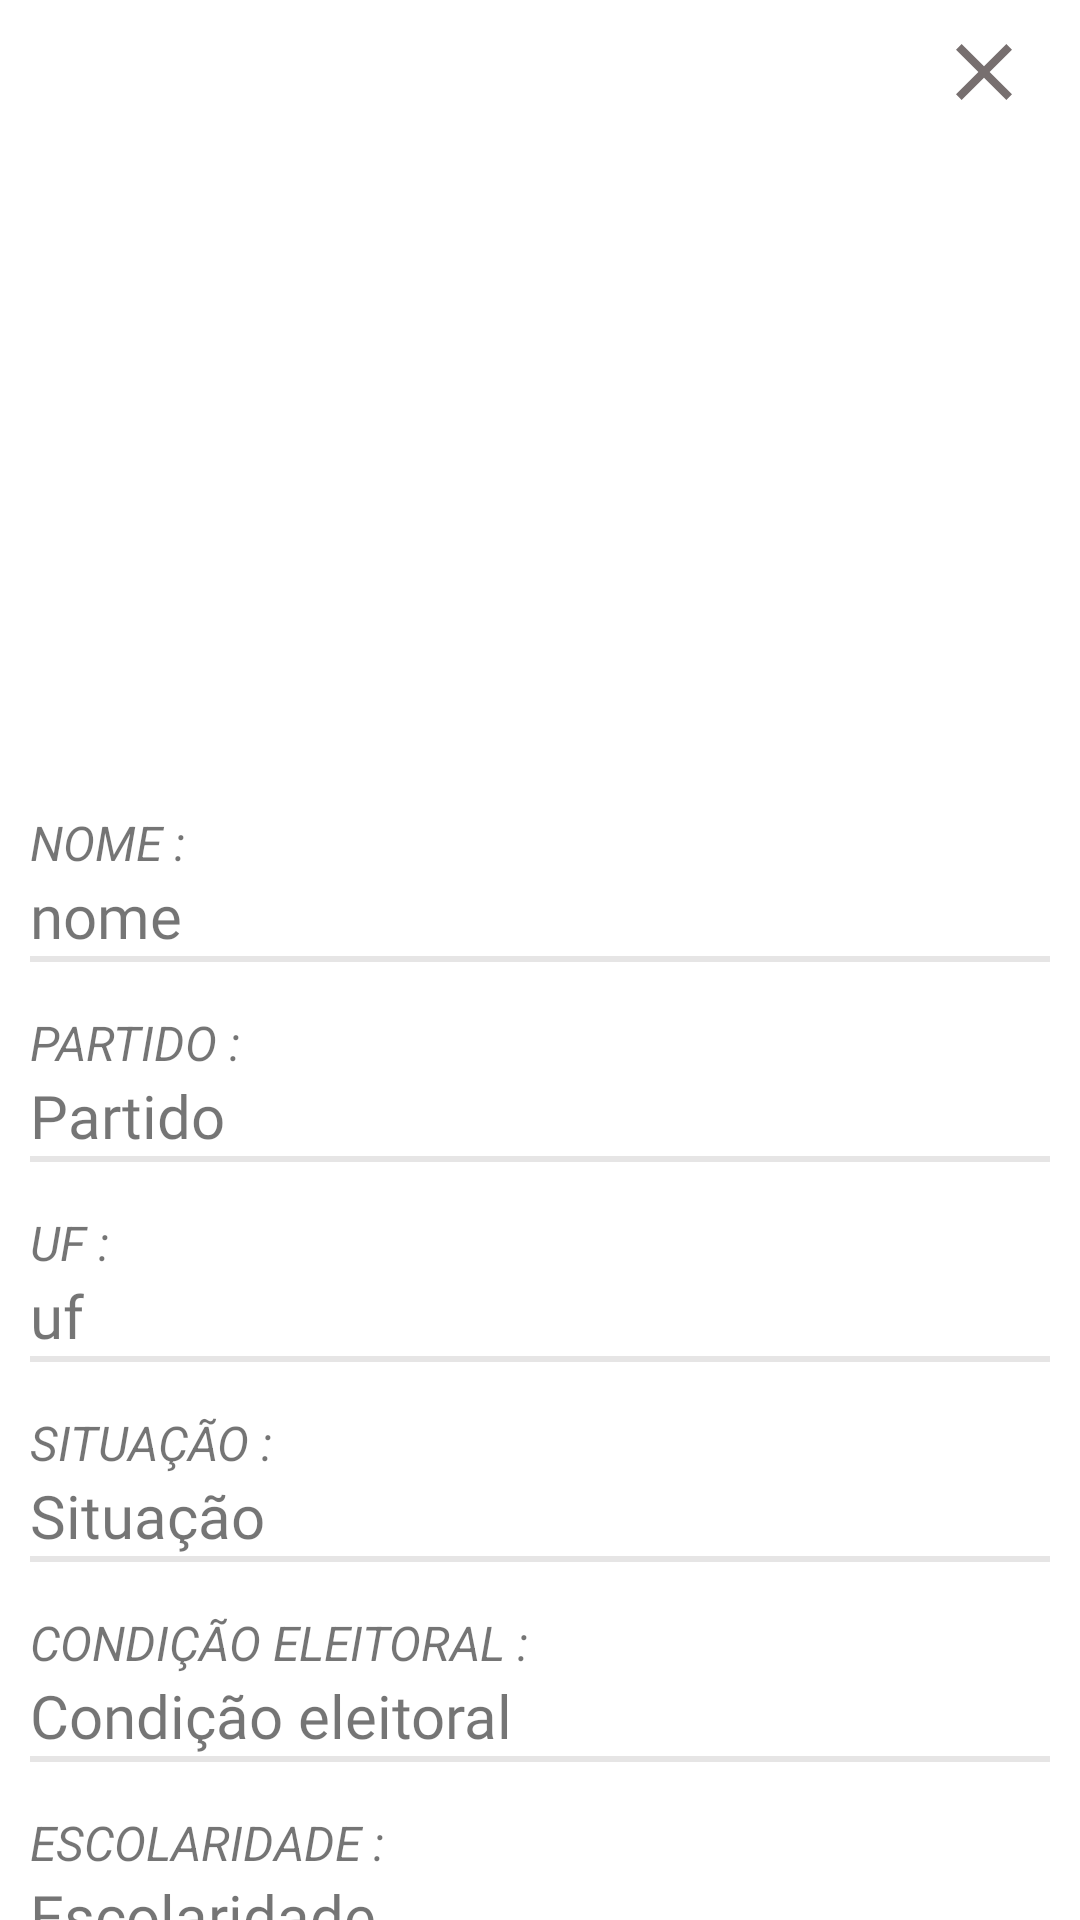

Icon bounding boxes for this 1080 x 1920 phone screenshot, format (x1, y1, x2, y2):
close: (956, 44, 1012, 100)
